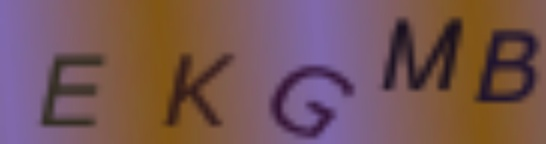B: (473, 28, 539, 106)
E: (38, 51, 111, 132)
G: (268, 63, 357, 141)
K: (158, 50, 240, 131)
M: (377, 13, 469, 96)
